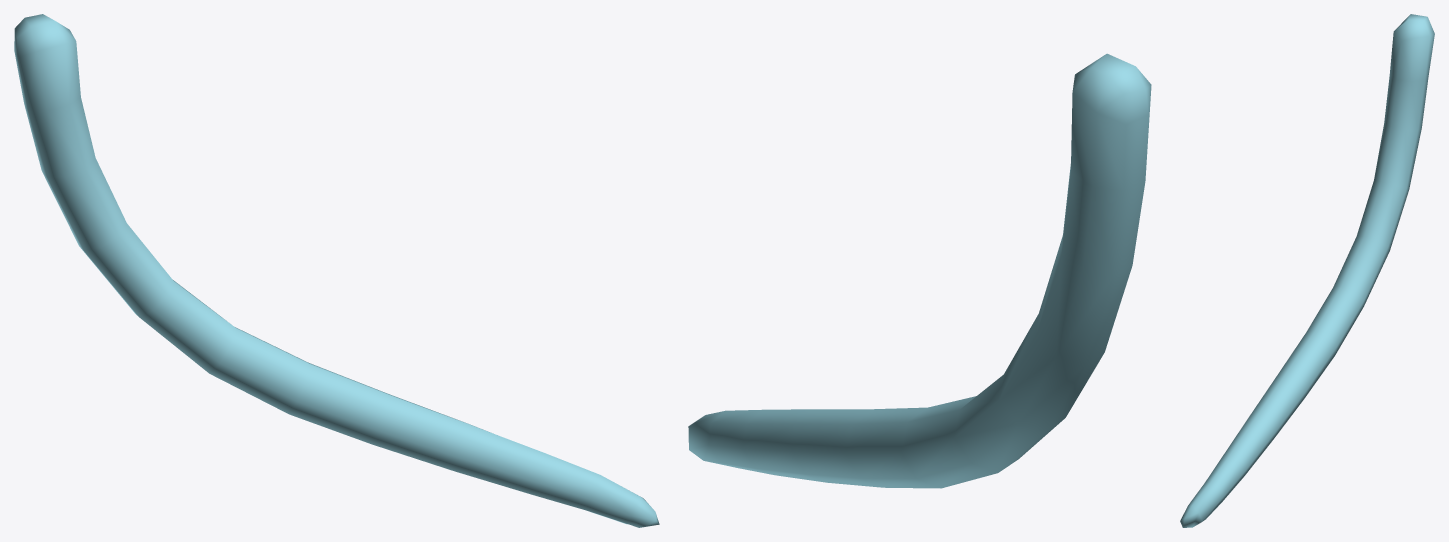
The picture shows the model from 3 angles, left to right: view 1: azimuth 30°, elevation 25°; view 2: azimuth 150°, elevation 25°; view 3: azimuth 270°, elevation 25°; orthographic projection. The views are drawn at different scales.
Visible parts, largest first — view 1: CC R7; view 2: CC R7; view 3: CC R7.
Part boxes in pixels (bbox=[...]): CC R7: bbox=[14, 14, 659, 527]; CC R7: bbox=[688, 53, 1151, 488]; CC R7: bbox=[1180, 14, 1434, 527].
Bounding box in the file's own units: 2.71 × 2.7 × 1.75.
